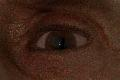eye: (45, 32, 77, 50)
